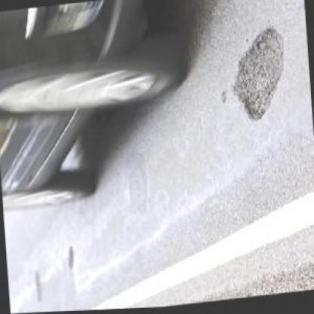Hueco: (229, 26, 293, 126)
